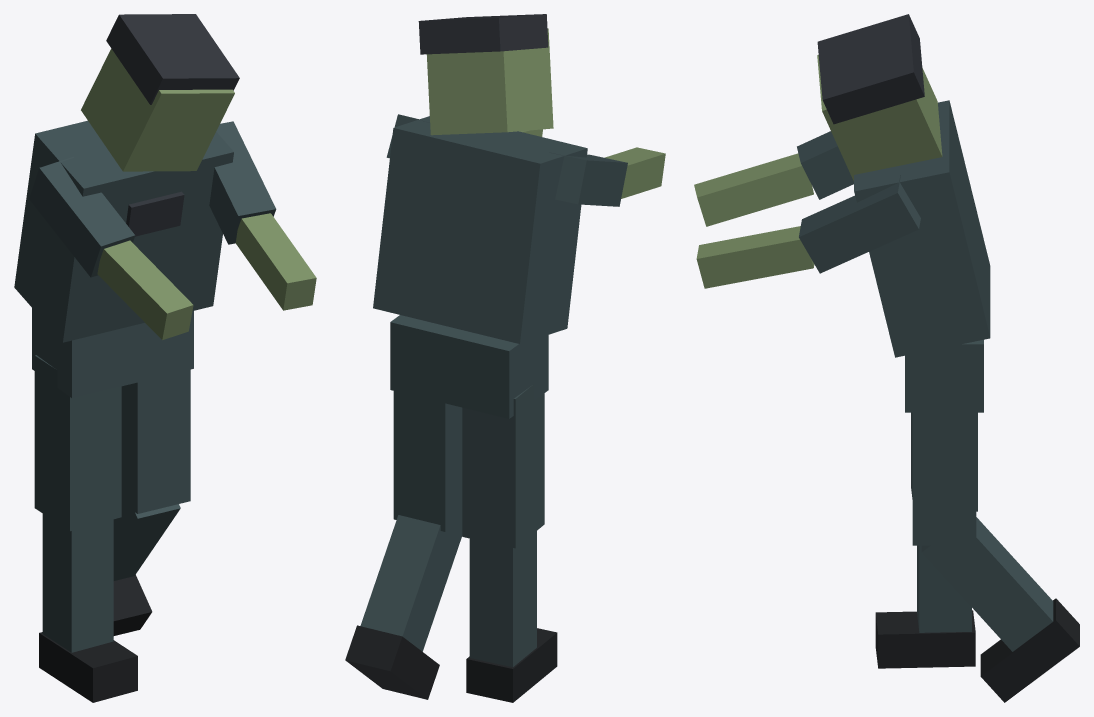
File: zombie_worker.glb
3 renders of one model, left to right at view 1: azimuth 30°, elevation 25°; view 2: azimuth 150°, elevation 25°; view 3: azimuth 270°, elevation 25°, orthographic. The views are drawn at different scales.
Visible parts, largest first — view 1: zombie_worker; view 2: zombie_worker; view 3: zombie_worker.
Part boxes in pixels (left/top/right/bottom): zombie_worker: left=14, top=14, right=316, bottom=702; zombie_worker: left=345, top=14, right=665, bottom=702; zombie_worker: left=694, top=14, right=1079, bottom=702.
Size of the model in its own units: 0.6067 by 1.98 by 1.06.
